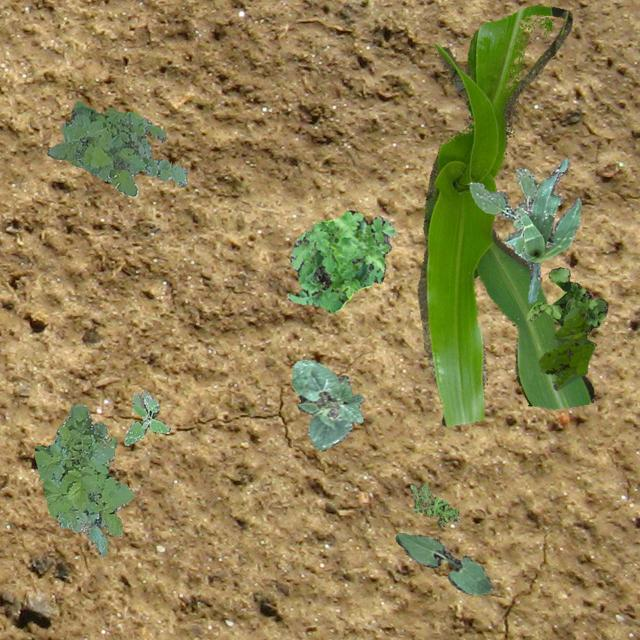crop: (417, 4, 592, 424), (516, 158, 580, 302), (290, 358, 362, 450), (394, 532, 492, 594)
weed: (34, 404, 134, 556), (46, 100, 186, 196), (286, 210, 396, 312), (468, 166, 536, 258), (526, 268, 606, 330), (538, 306, 594, 388), (122, 389, 170, 444), (409, 482, 458, 526)
